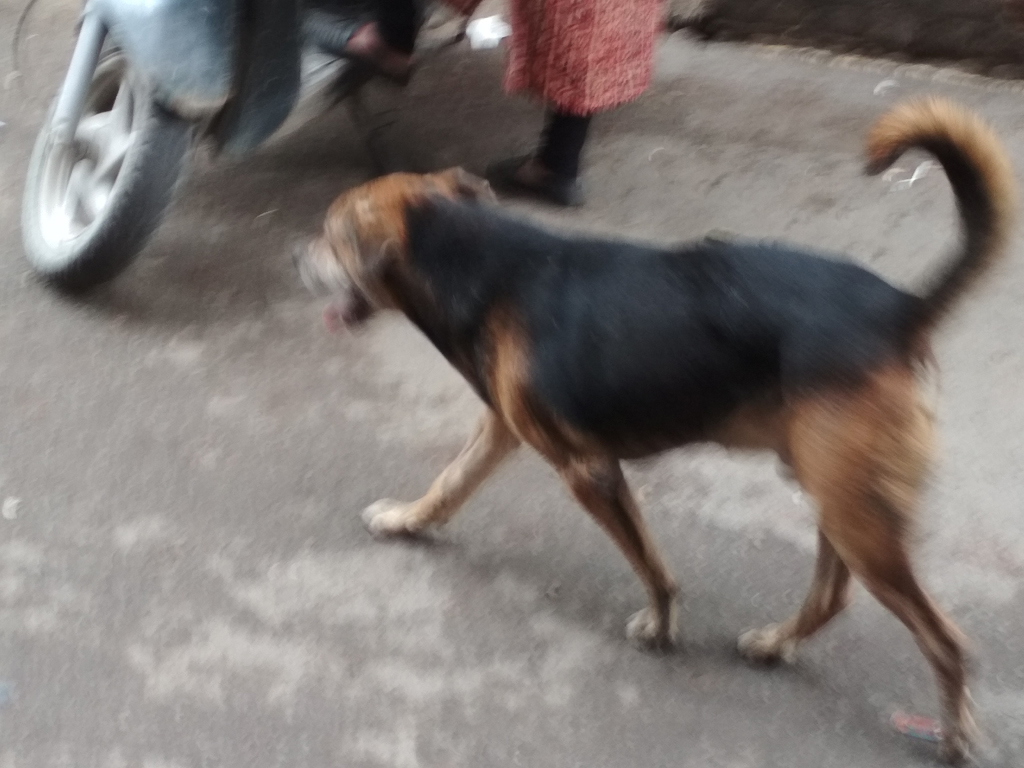dog: (295, 98, 1014, 767)
